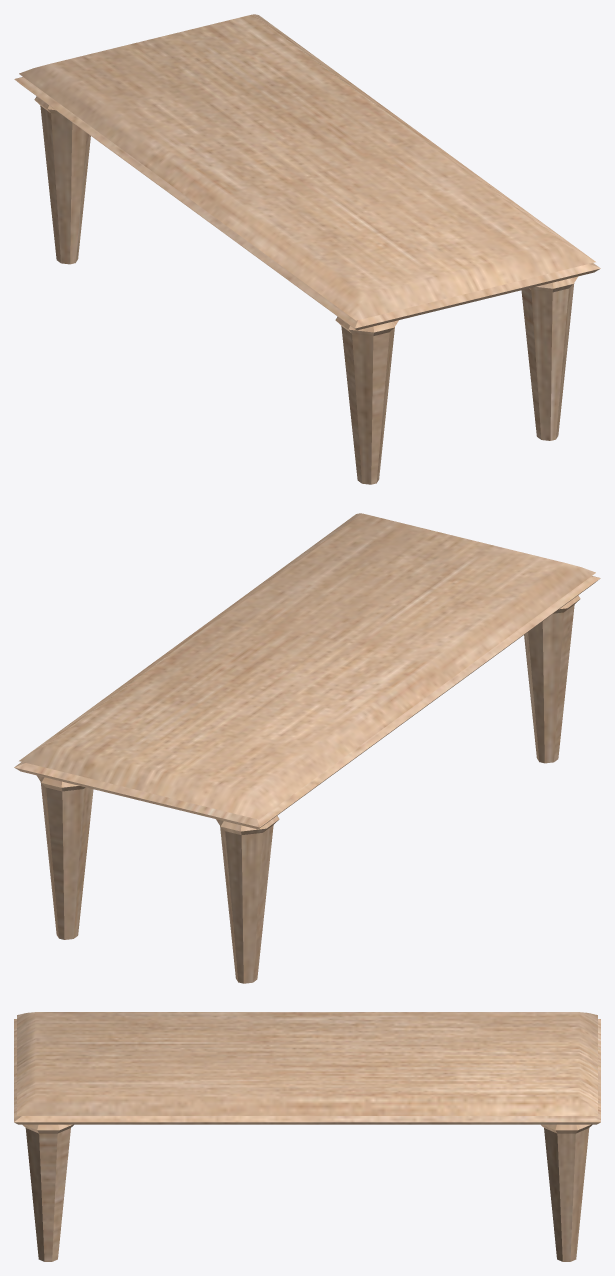
The model's file is table_large.FBX.
3 renders of one model, top to bottom at view 1: azimuth 30°, elevation 25°; view 2: azimuth 150°, elevation 25°; view 3: azimuth 270°, elevation 25°, orthographic. The views are drawn at different scales.
Visible parts, largest first — view 1: table_large; view 2: table_large; view 3: table_large.
Part boxes in pixels (x1,y1,x2,y2): table_large: [14, 14, 600, 484]; table_large: [14, 513, 600, 983]; table_large: [14, 1012, 600, 1261].
Size of the model in its own units: 67.67 by 50.7 by 162.
